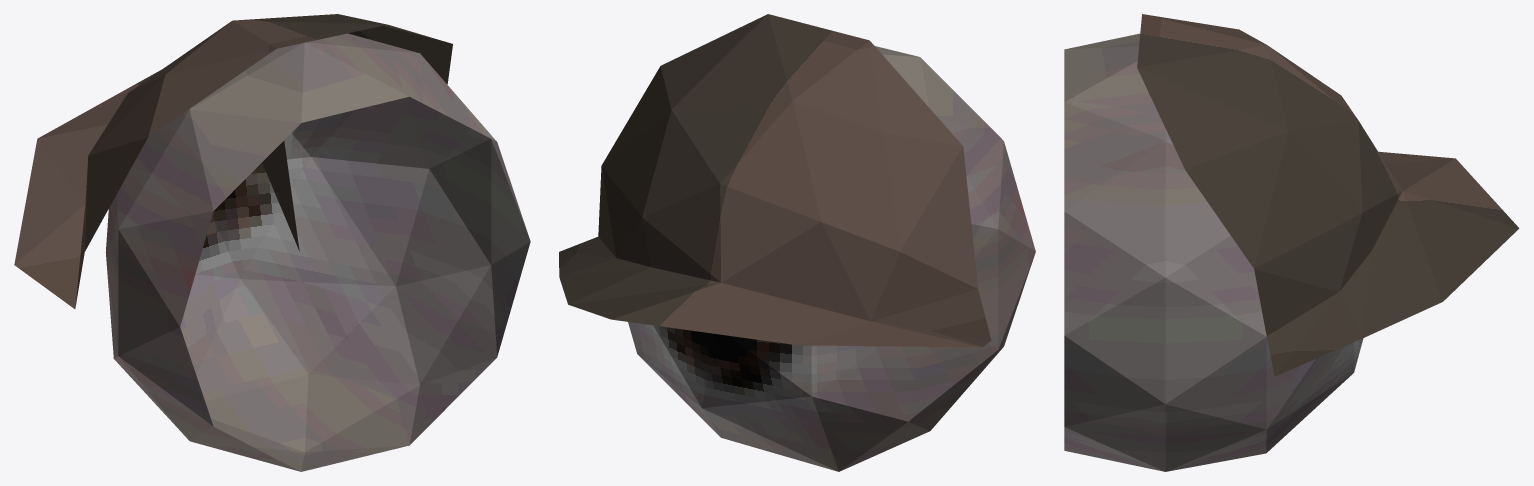
File: recovered_gear_left_eye_brown_large_9169ee1fd487.glb
3 renders of one model, left to right at view 1: azimuth 30°, elevation 25°; view 2: azimuth 150°, elevation 25°; view 3: azimuth 270°, elevation 25°, orthographic. The views are drawn at different scales.
Parts seen in each view (by area): view 1: left_eye_brown_large; view 2: left_eye_brown_large; view 3: left_eye_brown_large.
Boxes of the visible parts, x1,y1,x2,y2 form: left_eye_brown_large: (14,14,530,471); left_eye_brown_large: (559,14,1035,471); left_eye_brown_large: (1064,14,1519,471).
Size of the model in its own units: 0.0399 by 0.0358 by 0.035.
Materials: 2 (2 with a texture image).
